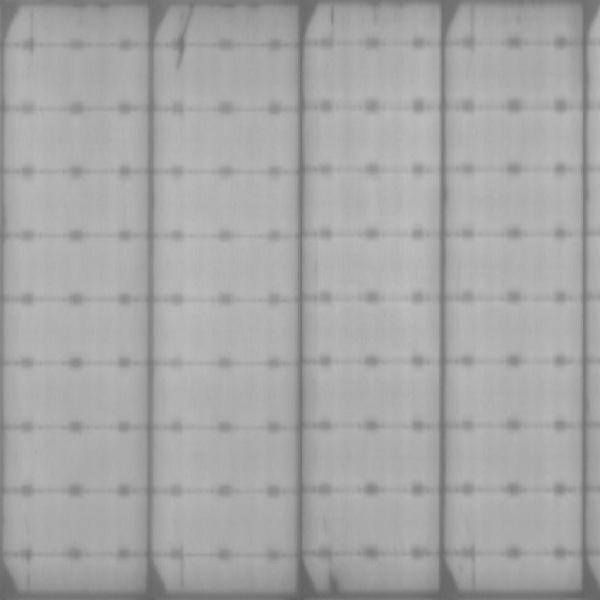broken: (324, 570, 346, 597)
scratch: (173, 8, 192, 64), (466, 1, 485, 57), (20, 550, 39, 600), (175, 541, 192, 594), (466, 544, 480, 596), (25, 15, 41, 52)
